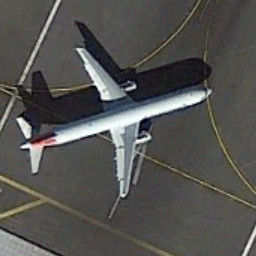Airplane: (14, 35, 216, 205)
